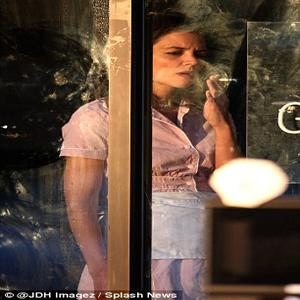cigarette: (217, 78, 239, 83)
